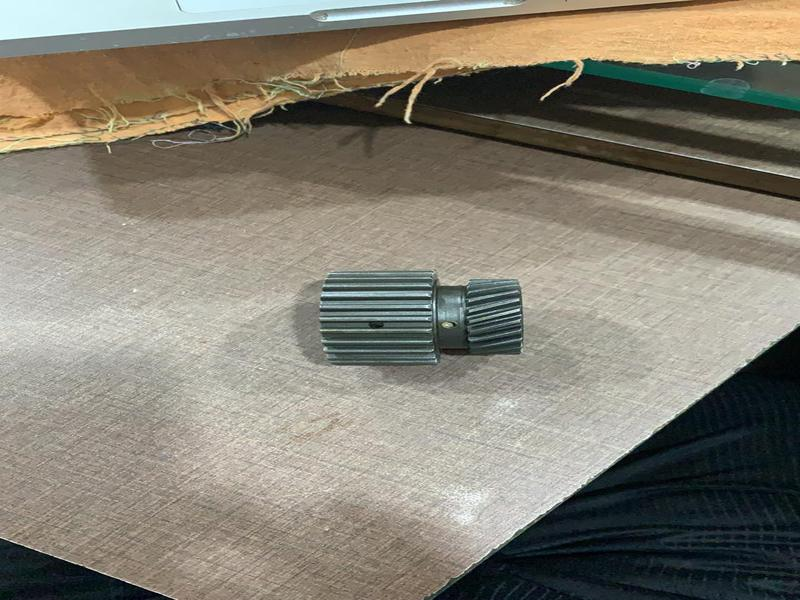engine gear alfa: (318, 264, 528, 377)
